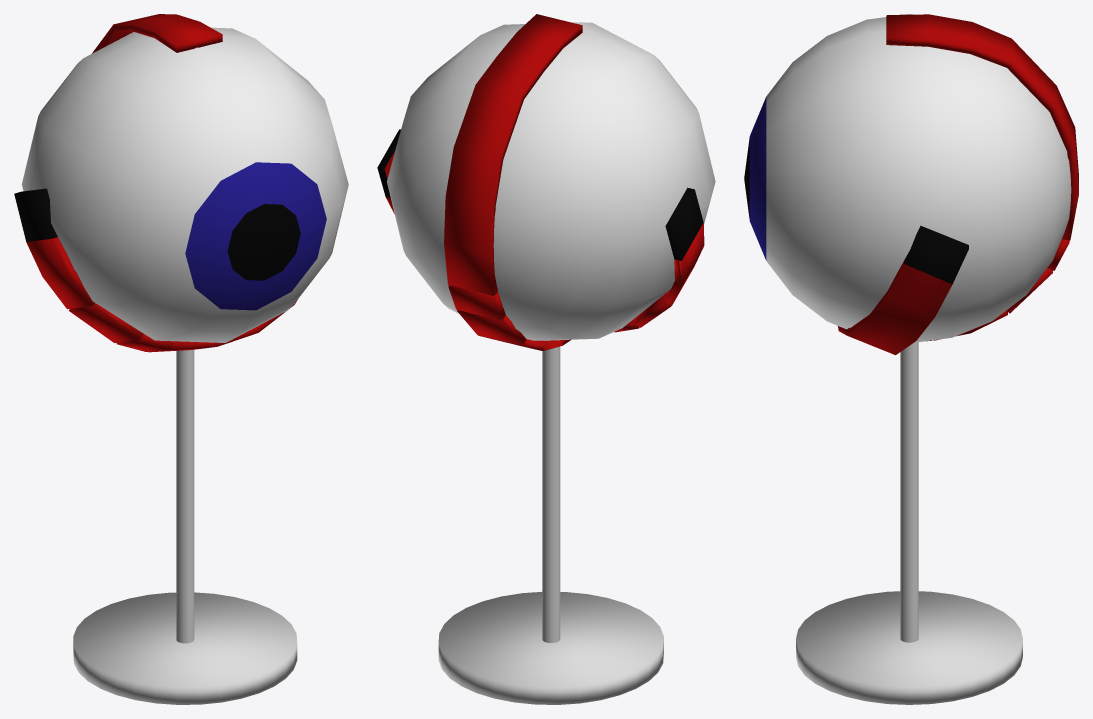
File: OLHO.fbx
The picture shows the model from 3 angles, left to right: view 1: azimuth 30°, elevation 25°; view 2: azimuth 150°, elevation 25°; view 3: azimuth 270°, elevation 25°; orthographic projection.
Parts seen in each view (by area): view 1: Sphere.001, Cylinder.001, Plane.002; view 2: Sphere.001, Cylinder.001, Plane.002; view 3: Sphere.001, Cylinder.001, Plane.002.
Part boxes in pixels (x1,y1,x2,y2): Sphere.001: (21, 27, 348, 342); Cylinder.001: (73, 349, 297, 704); Plane.002: (14, 14, 297, 352); Sphere.001: (387, 22, 715, 340); Cylinder.001: (438, 346, 663, 704); Plane.002: (377, 14, 704, 350); Sphere.001: (744, 14, 1071, 342); Cylinder.001: (796, 342, 1022, 704); Plane.002: (838, 14, 1078, 355).
Size of the model in its own units: 2.06 by 4.22 by 2.02.
